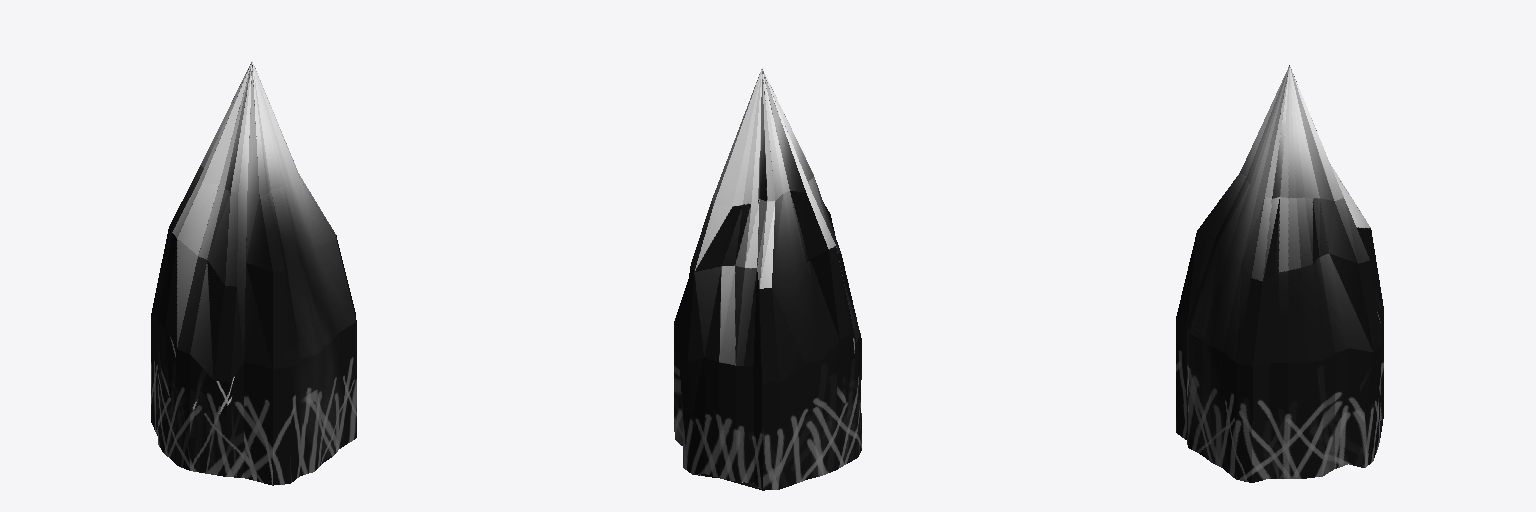
3 renders of one model, left to right at view 1: azimuth 30°, elevation 25°; view 2: azimuth 150°, elevation 25°; view 3: azimuth 270°, elevation 25°, orthographic.
Parts seen in each view (by area): view 1: Cone; view 2: Cone; view 3: Cone.
Boxes of the visible parts, x1=… form: Cone: x1=151, y1=61, x2=356, y2=485; Cone: x1=674, y1=68, x2=861, y2=490; Cone: x1=1176, y1=65, x2=1383, y2=482.
Size of the model in its own units: 1.29 by 2.74 by 1.35.
1 materials, 1 textured.